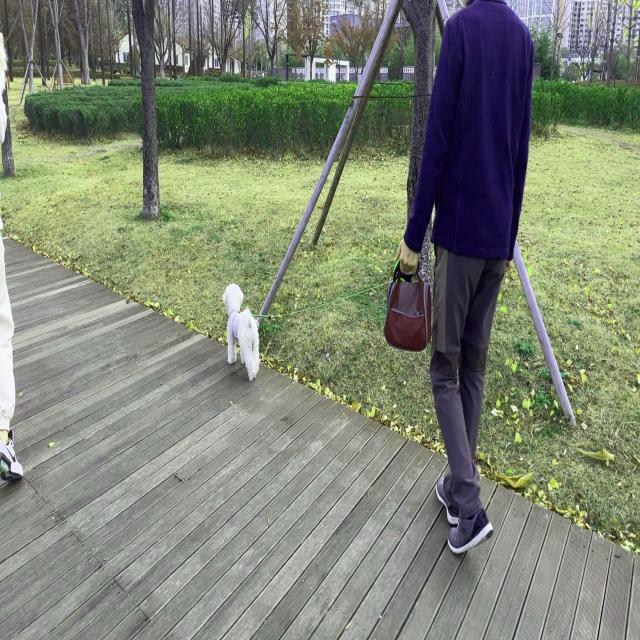Leashed_Dog: (222, 237, 476, 383)
